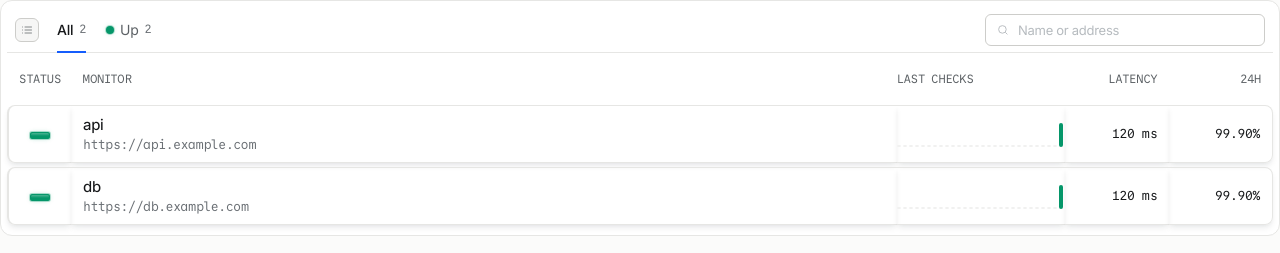
Test: Dashboard › tells you how many of how many matched
In the search field named "filter monitors": x=1136, y=30 [1018,22,1254,38], type "api"
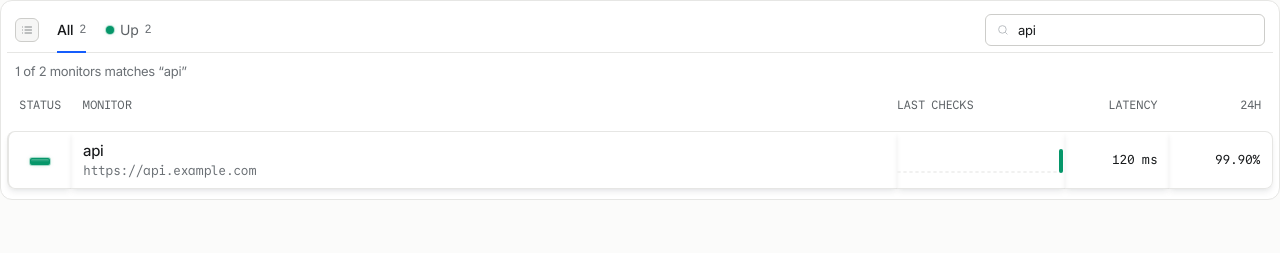
Check: the text "1 of 2 monitors matches “api”" is shown, box [15,63,187,79]
